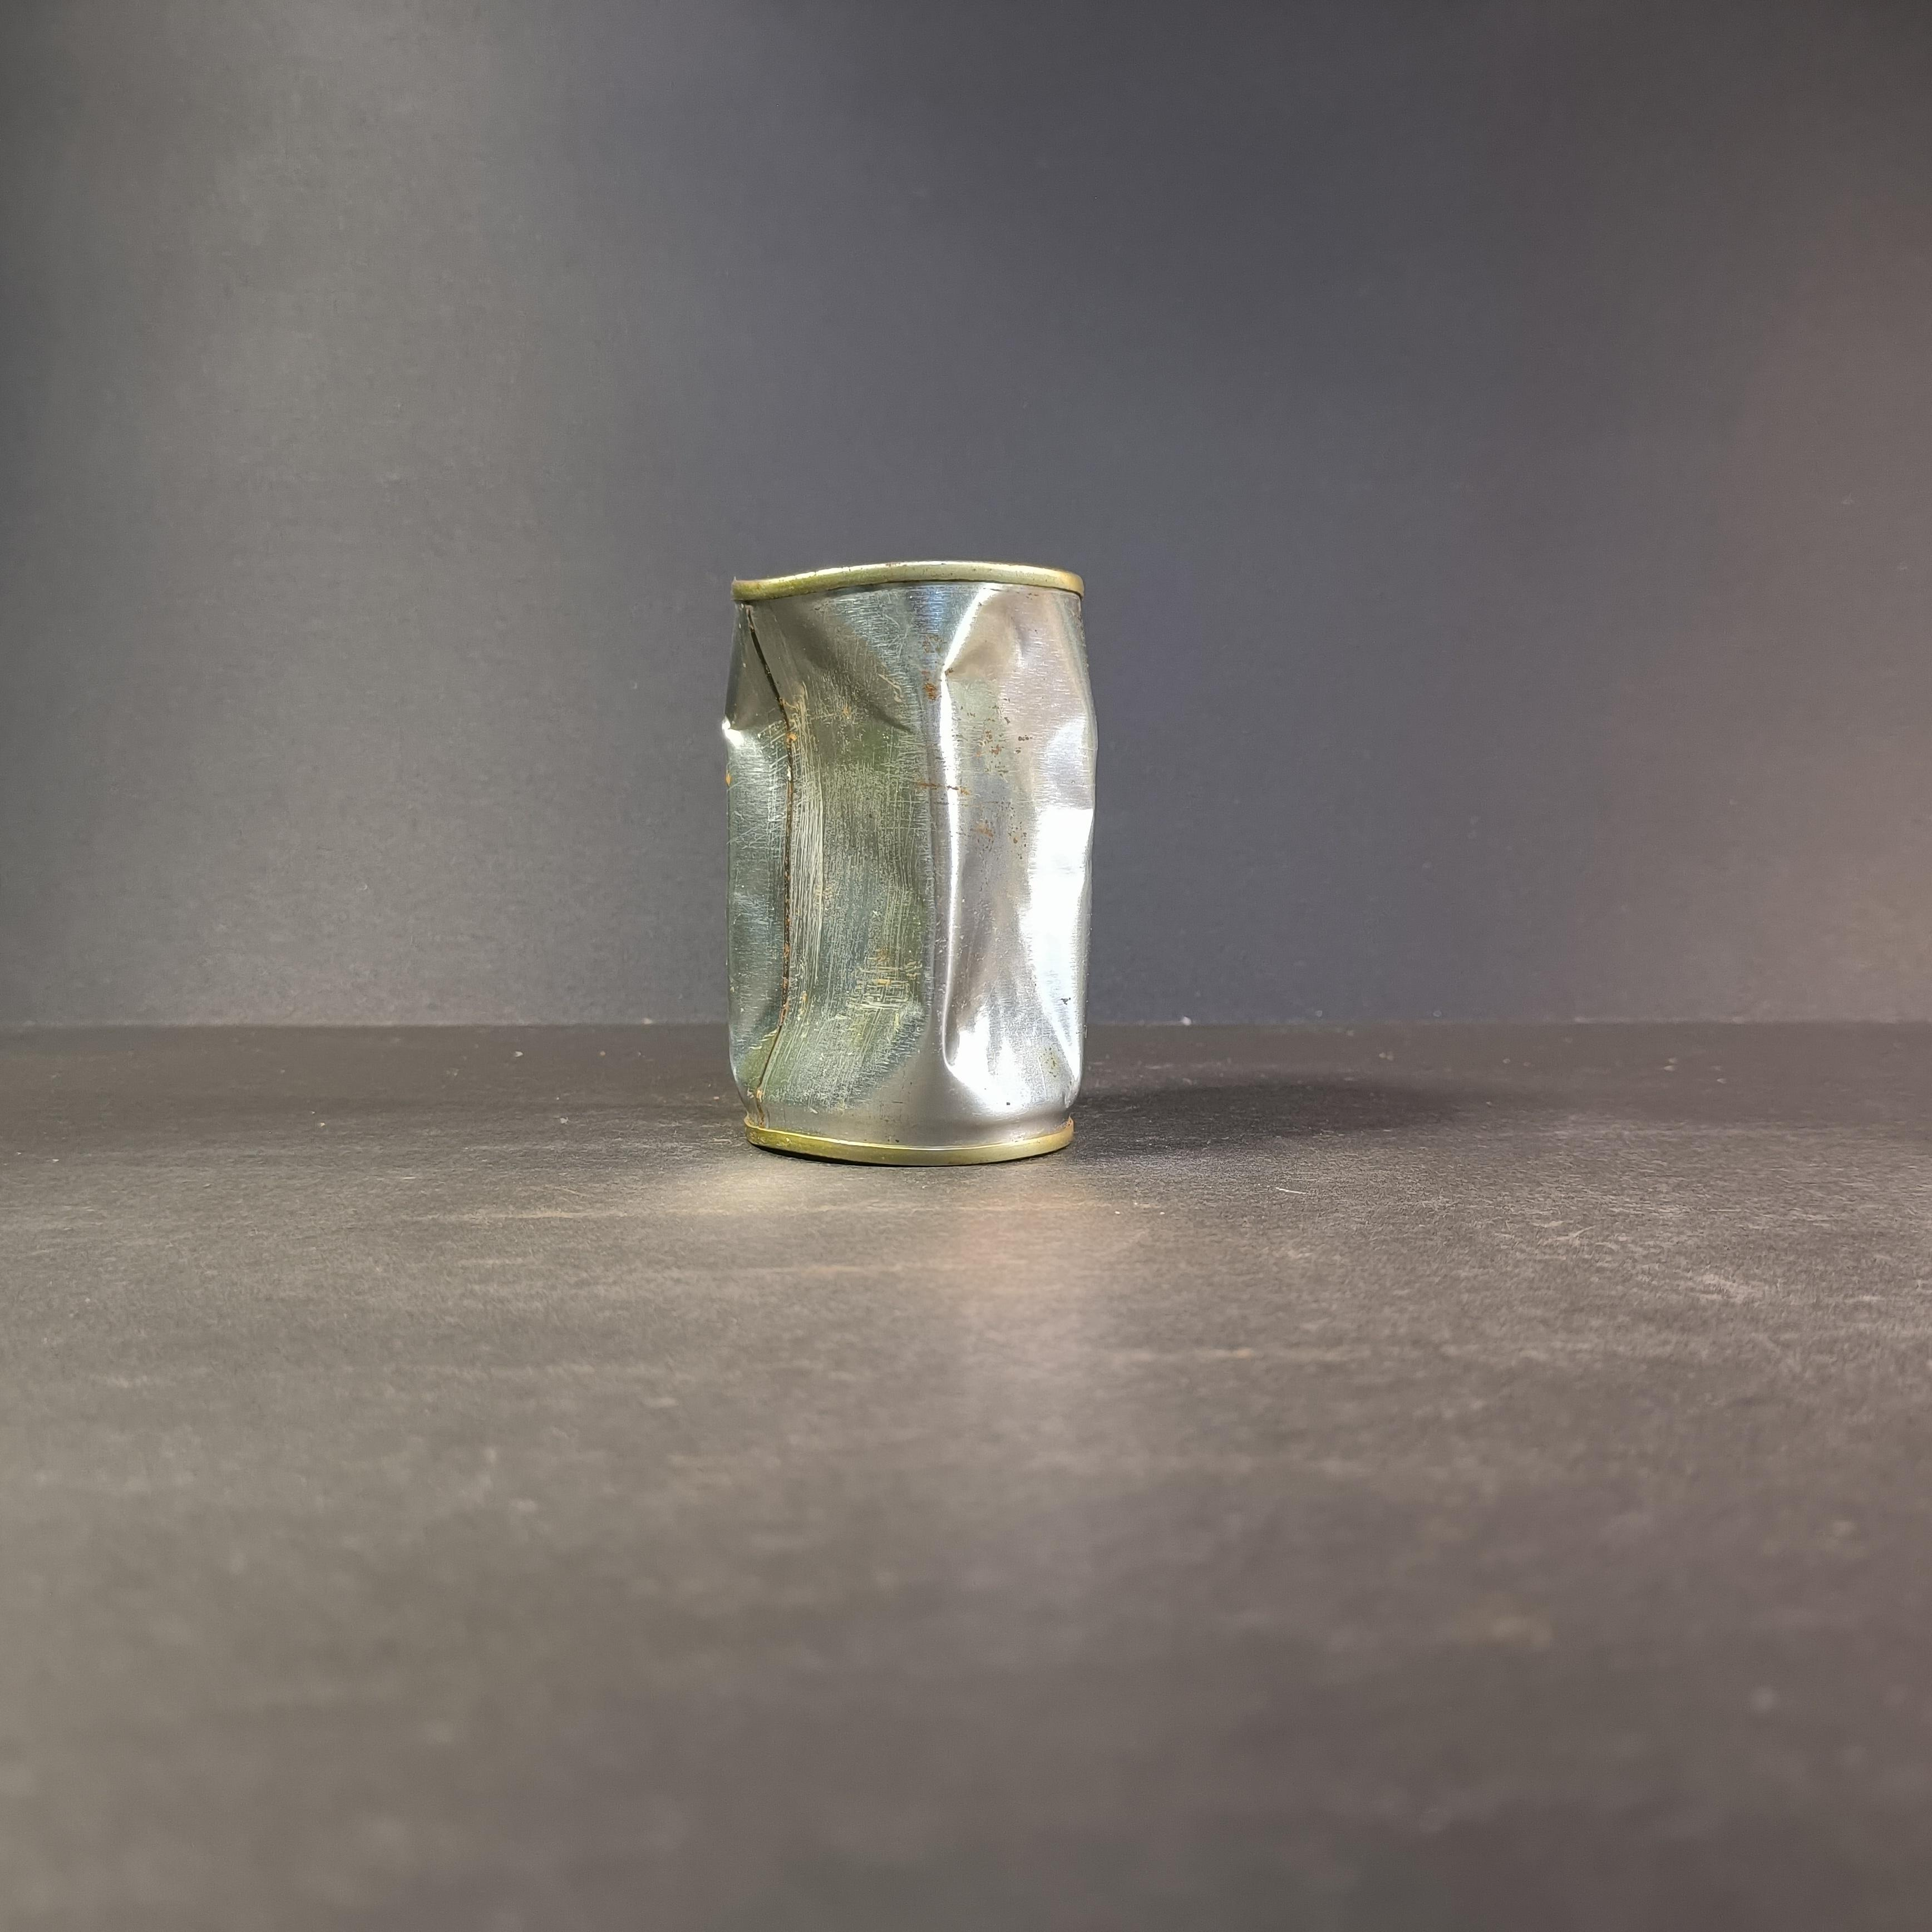Dented: (686, 534, 1116, 1166)
